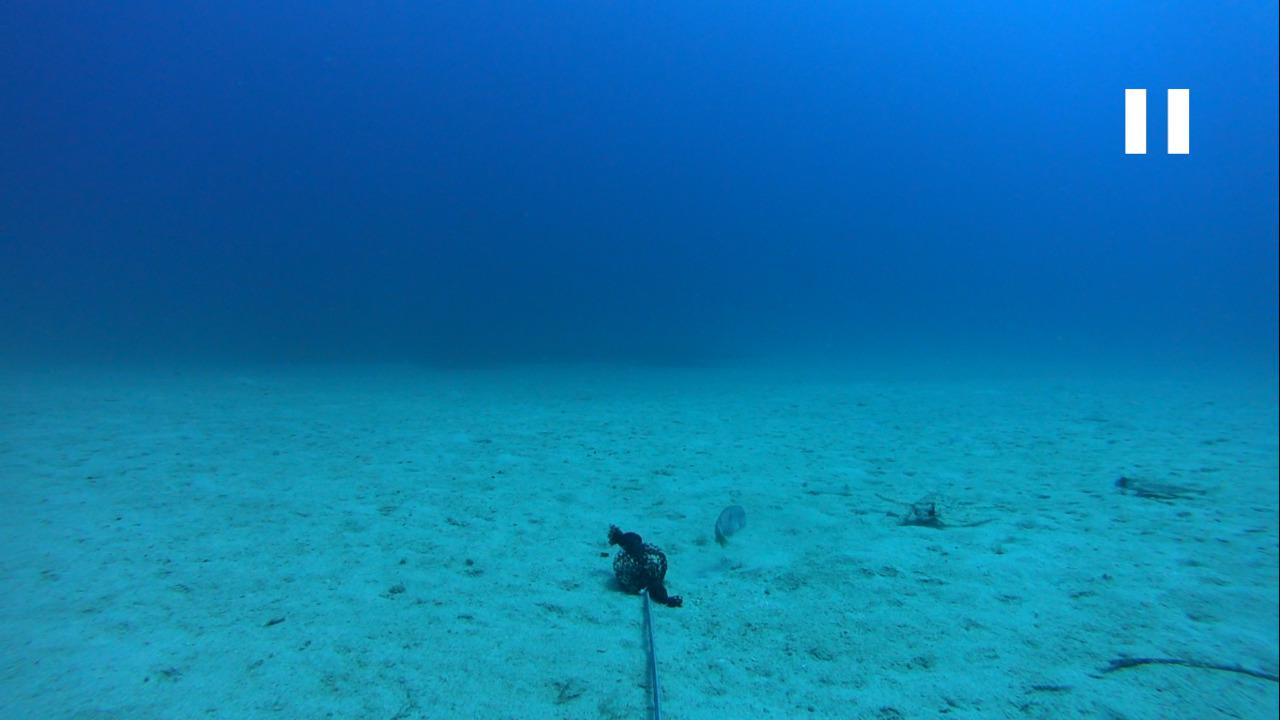dactylopterus: (1101, 468, 1220, 512), (881, 487, 960, 533)
raor: (703, 499, 750, 561)
